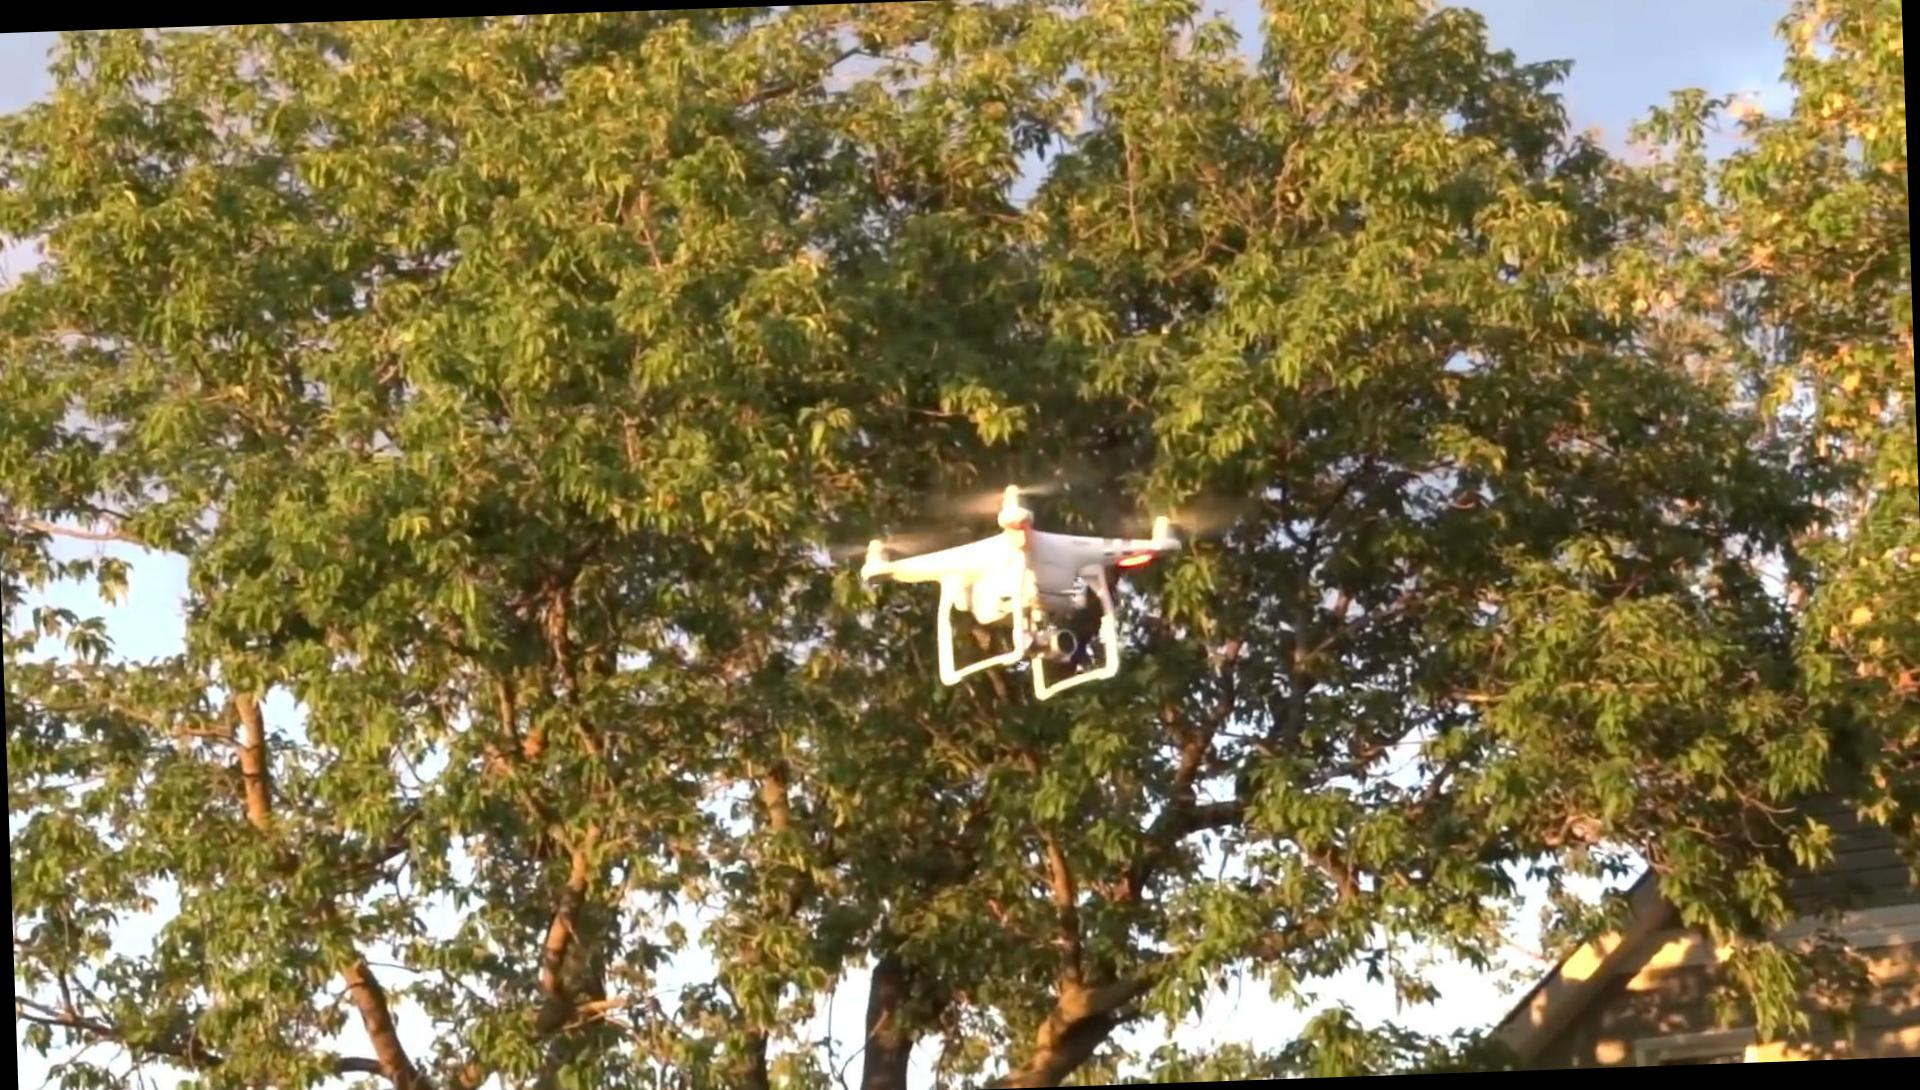drone: (848, 464, 1191, 709)
